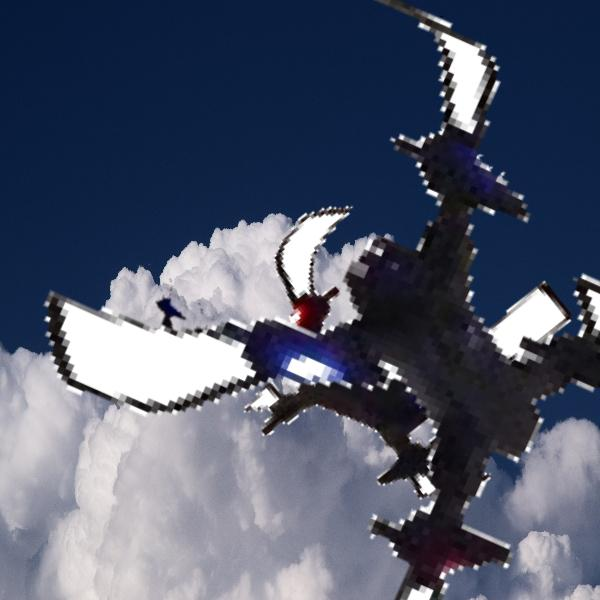drone: (223, 188, 559, 524), (80, 264, 228, 412)
